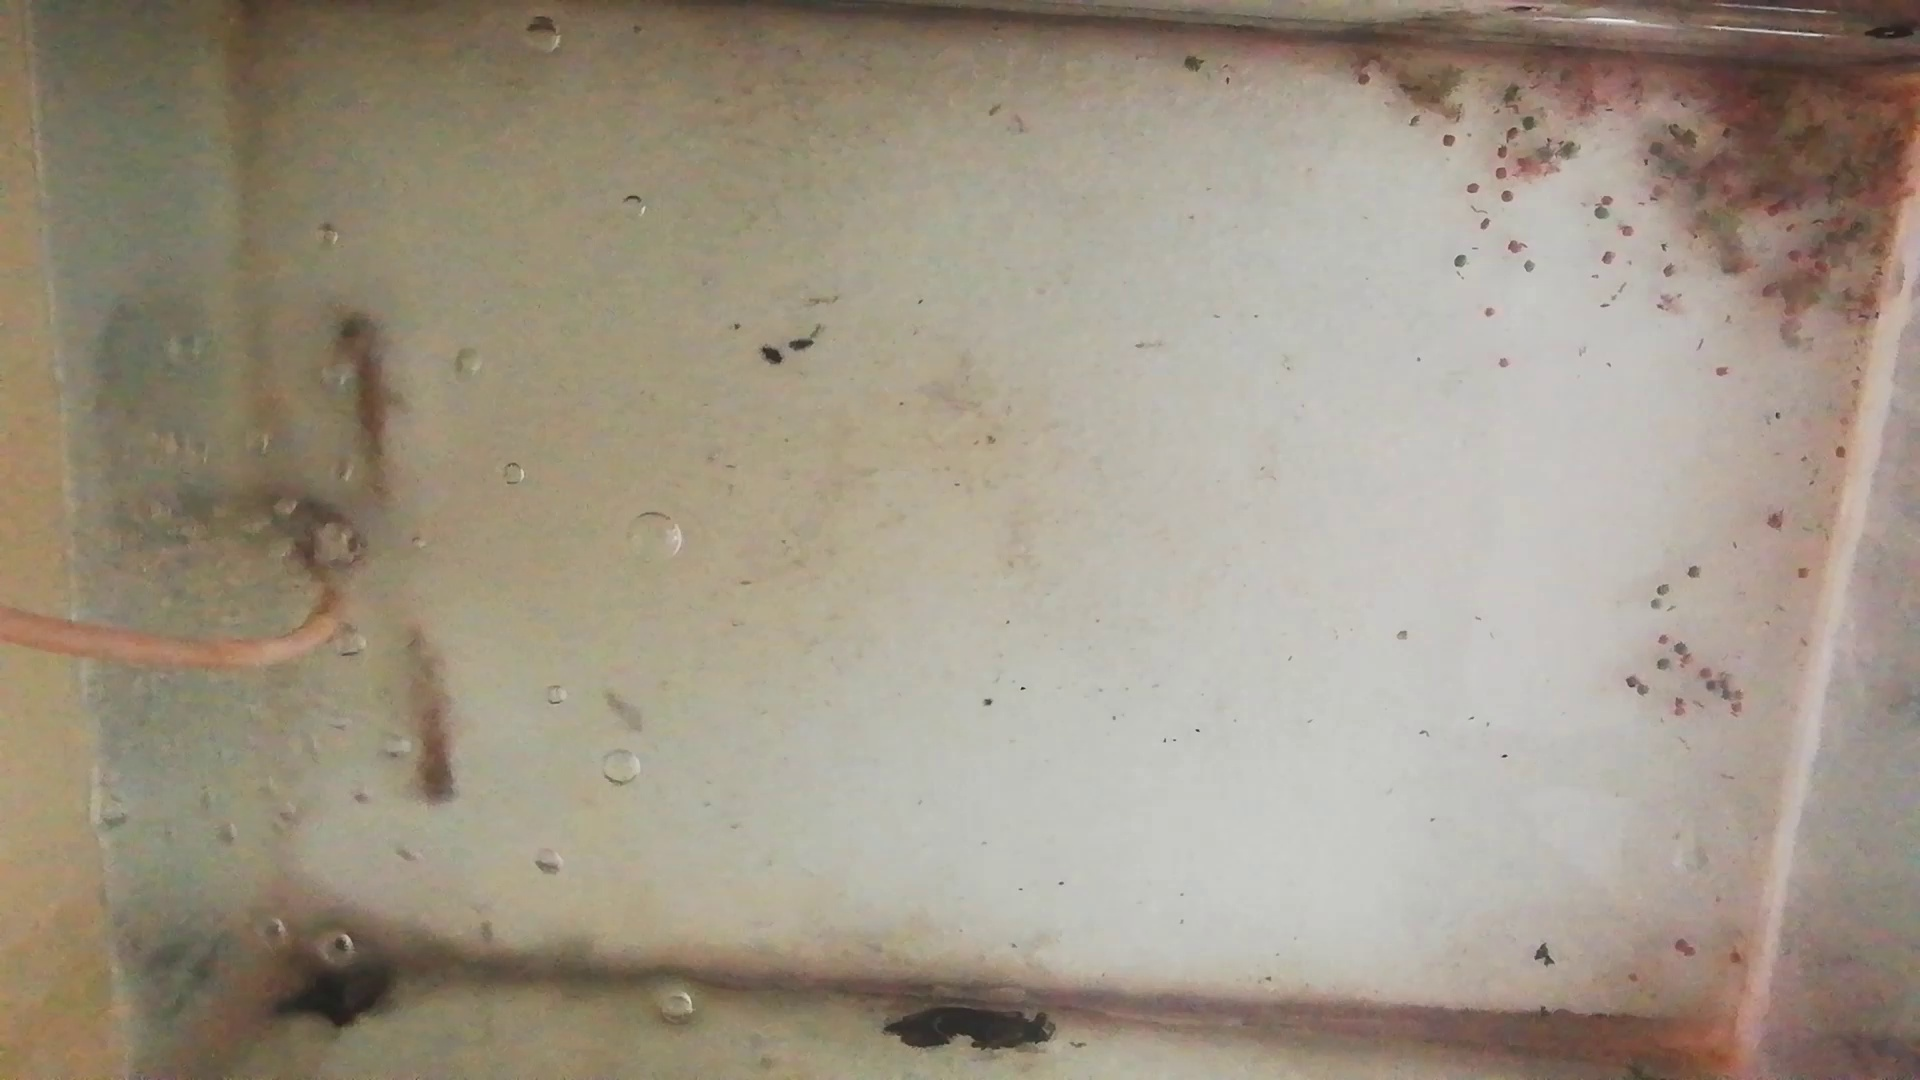fish: (396, 626, 472, 808), (339, 306, 402, 501)
